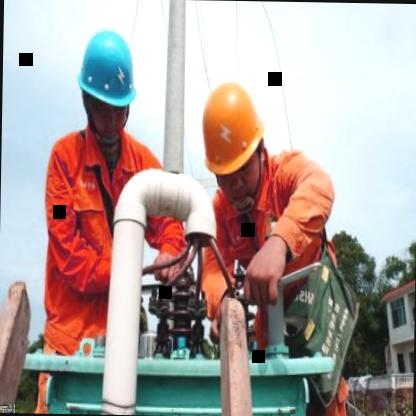helmet: (192, 64, 272, 214), (70, 13, 145, 152)
